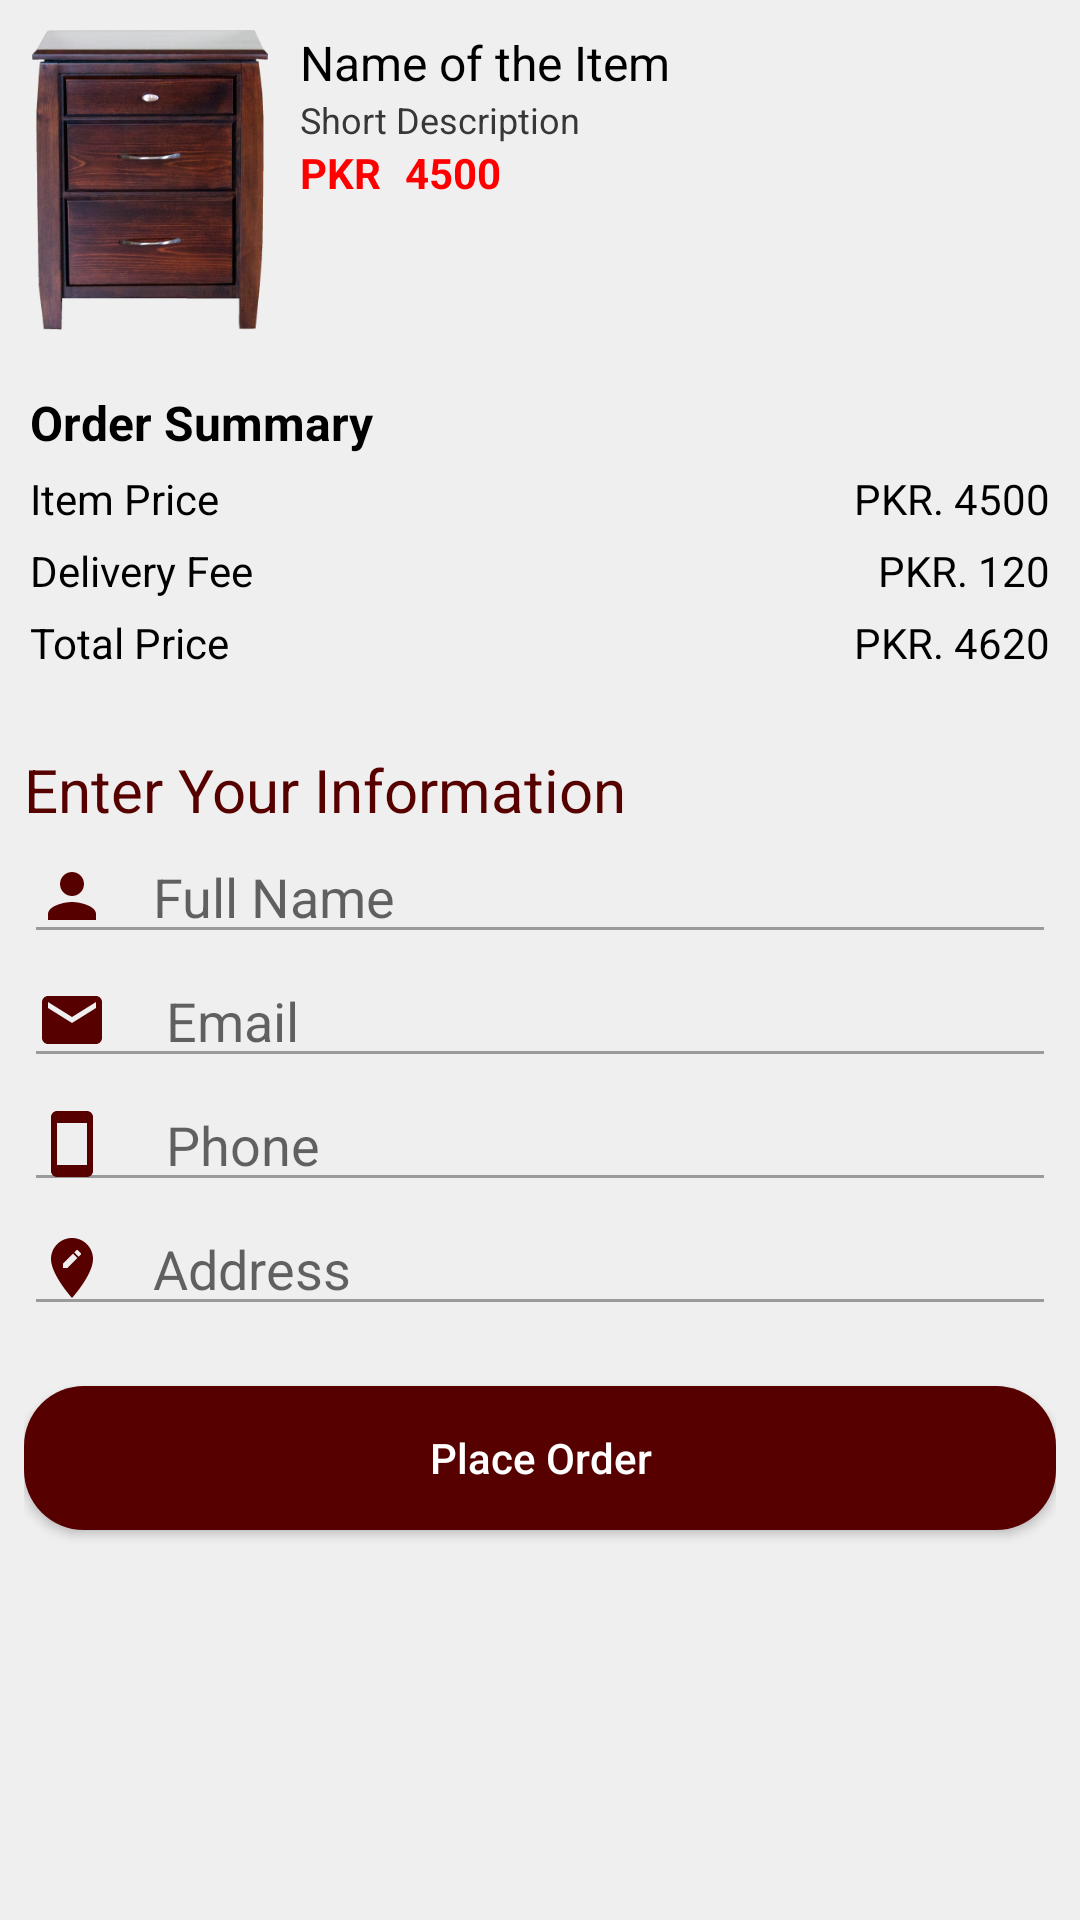

Named icons in this screenshot (1080 × 1920) and their bounding boxes, (x1, y1, x2, y2):
bedsidetable: (32, 30, 268, 330)
